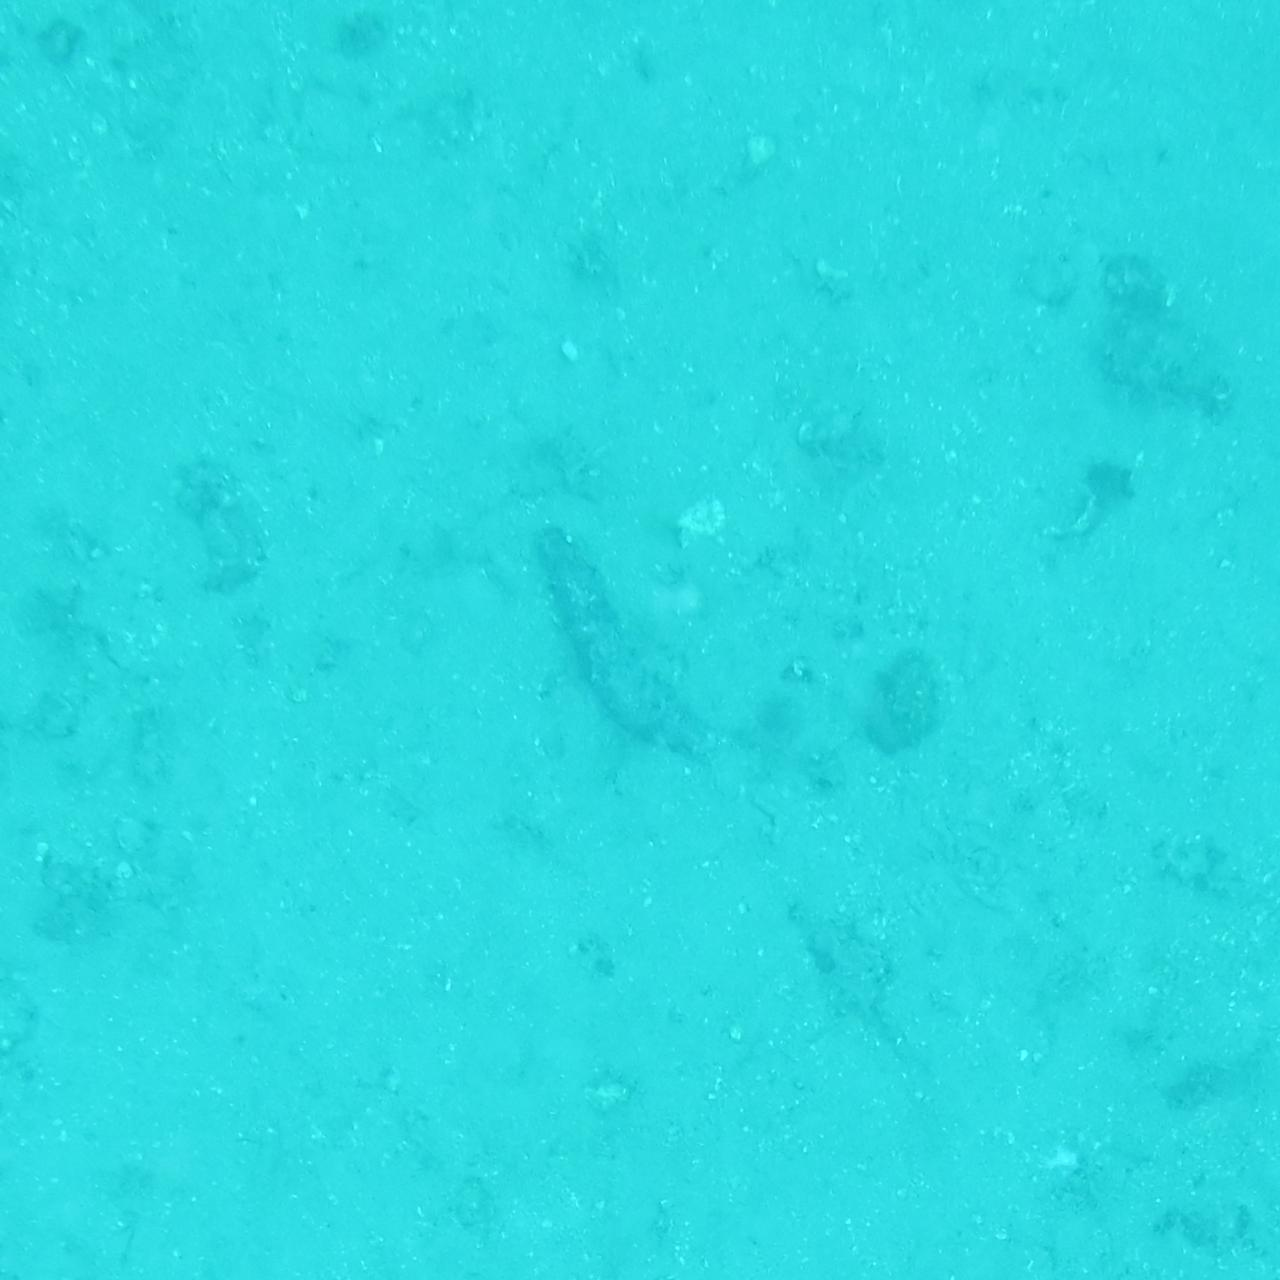Holothuria tubulosa: (544, 532, 736, 748)
